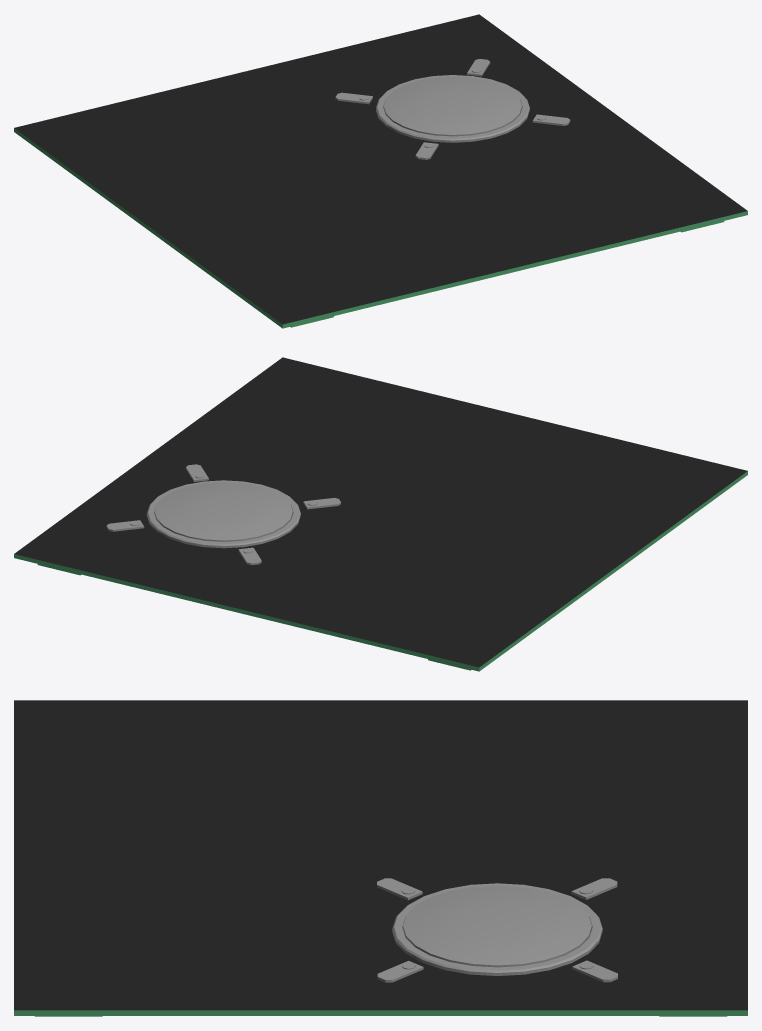
Rendered from road tile sewer lod0.FBX.
The picture shows the model from 3 angles, top to bottom: view 1: azimuth 30°, elevation 25°; view 2: azimuth 150°, elevation 25°; view 3: azimuth 270°, elevation 25°; orthographic projection. The views are drawn at different scales.
Parts seen in each view (by area): view 1: Group048, sewer; view 2: Group048, sewer; view 3: Group048, sewer, Box103, Box105, Box104, Box106.
Part boxes in pixels (x1,y1,x2,y2): Group048: (14, 14, 747, 328); sewer: (383, 76, 521, 136); Group048: (14, 357, 747, 671); sewer: (154, 482, 292, 541); Group048: (14, 700, 747, 1016); sewer: (403, 885, 591, 967); Box103: (571, 878, 617, 899); Box105: (377, 960, 423, 982); Box104: (377, 878, 422, 900); Box106: (572, 960, 617, 982).
Bounding box in the file's own units: 3 × 0.1418 × 3.
